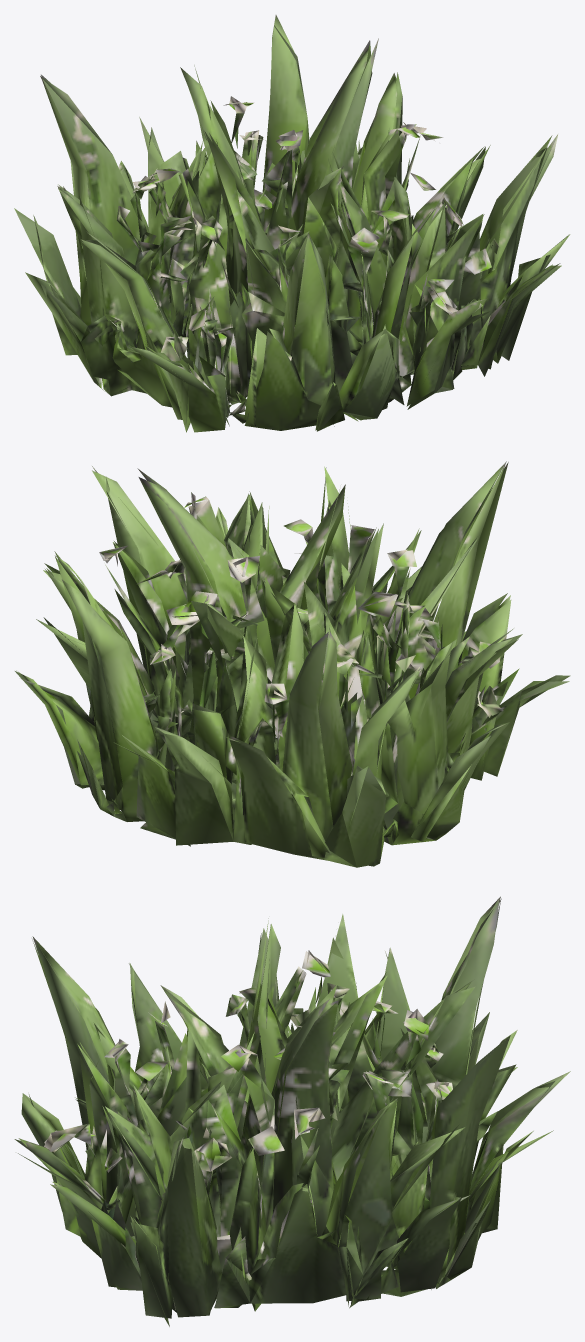
The model's file is Env_Grass_Flowers.fbx.
3 renders of one model, top to bottom at view 1: azimuth 30°, elevation 25°; view 2: azimuth 150°, elevation 25°; view 3: azimuth 270°, elevation 25°, orthographic. The views are drawn at different scales.
Visible parts, largest first — view 1: Env_Grass_Flowers; view 2: Env_Grass_Flowers; view 3: Env_Grass_Flowers.
Boxes of the visible parts, x1,y1,x2,y2 form: Env_Grass_Flowers: [14, 15, 570, 432]; Env_Grass_Flowers: [15, 461, 570, 867]; Env_Grass_Flowers: [14, 896, 570, 1326].
Size of the model in its own units: 0.4258 by 0.2536 by 0.411.
Materials: 1 (1 with a texture image).
